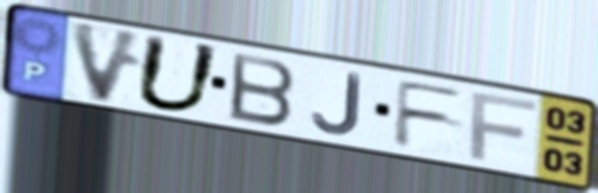B: (227, 49, 300, 129)
F: (390, 78, 470, 150), (466, 89, 539, 163)
J: (309, 70, 364, 138)
U: (130, 31, 225, 115)
V: (67, 17, 148, 107)
